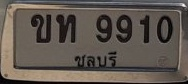txt02: (30, 13, 53, 45)
txt18: (54, 13, 77, 44)
